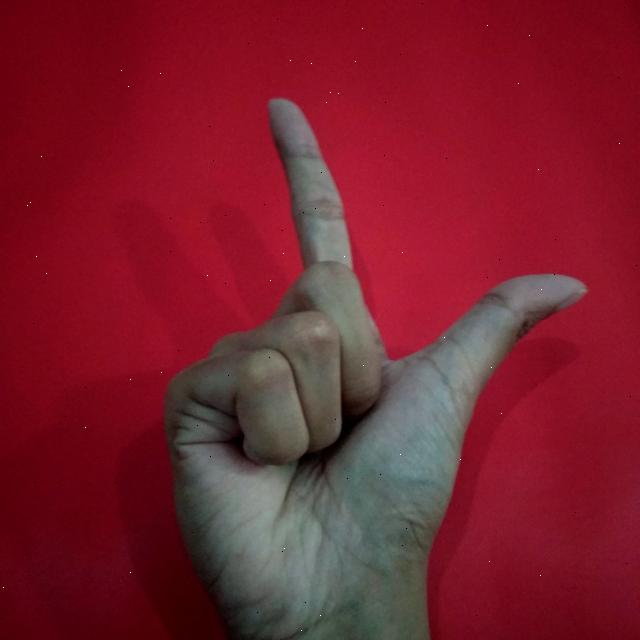L: (156, 90, 593, 640)
